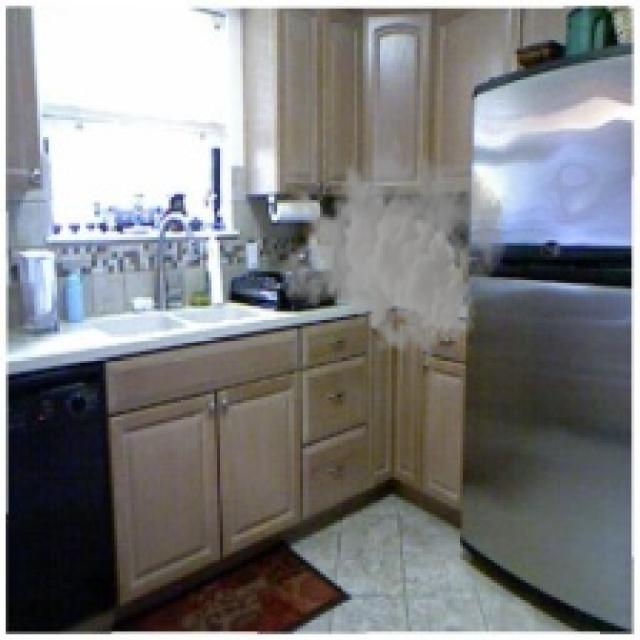smoke: (277, 128, 509, 363)
